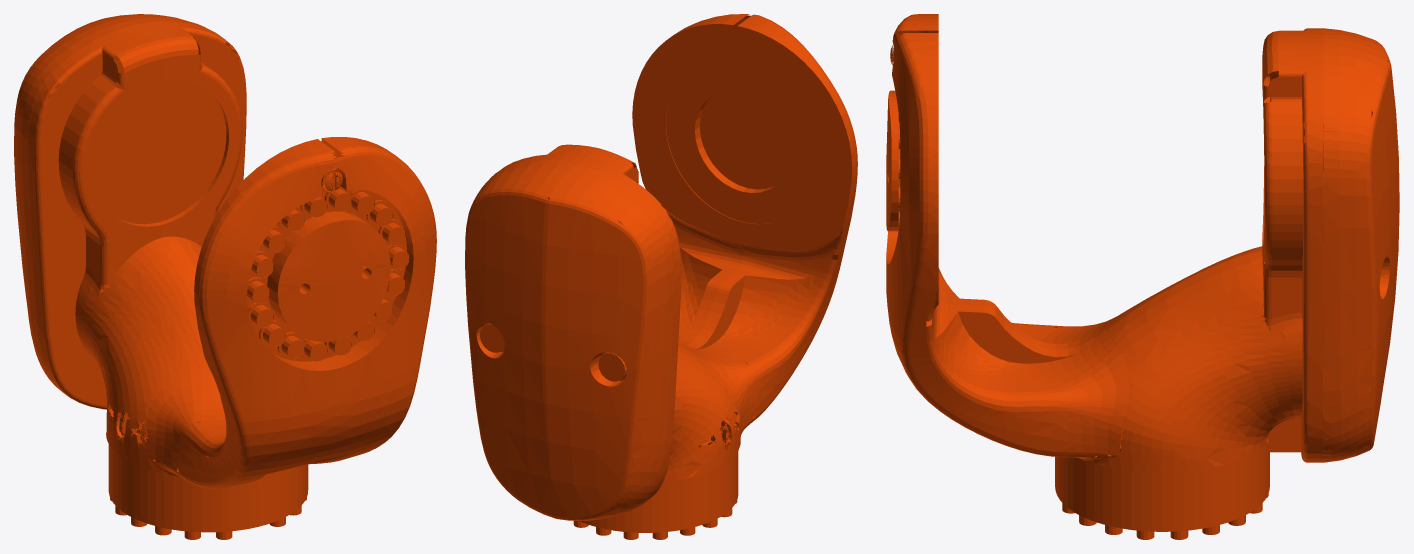
The picture shows the model from 3 angles, left to right: view 1: azimuth 30°, elevation 25°; view 2: azimuth 150°, elevation 25°; view 3: azimuth 270°, elevation 25°; orthographic projection. The views are drawn at different scales.
Visible parts, largest first — view 1: 1; view 2: 1; view 3: 1.
Boxes of the visible parts, x1,y1,x2,y2 form: 1: [14, 14, 436, 539]; 1: [465, 14, 857, 539]; 1: [886, 14, 1399, 539].
Size of the model in its own units: 0.115 by 0.202 by 0.2008.
